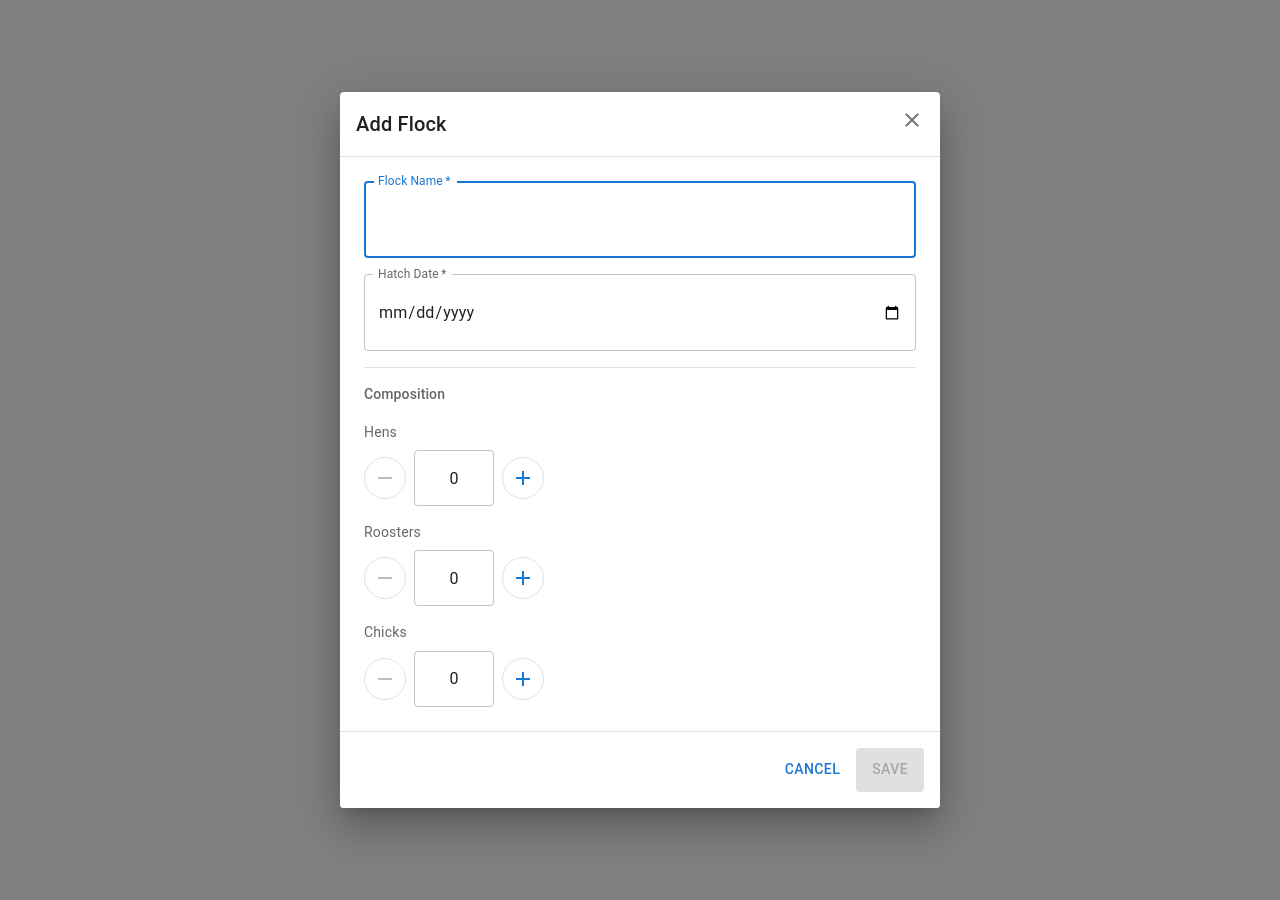
Test: CreateFlockModal › Increment/Decrement Buttons › should handle increment for roosters
Expected: the number field named "Roosters" holds "0", [414,550,494,606]
Click the button named "increase": coordinates (523, 578) [502,558,544,600]
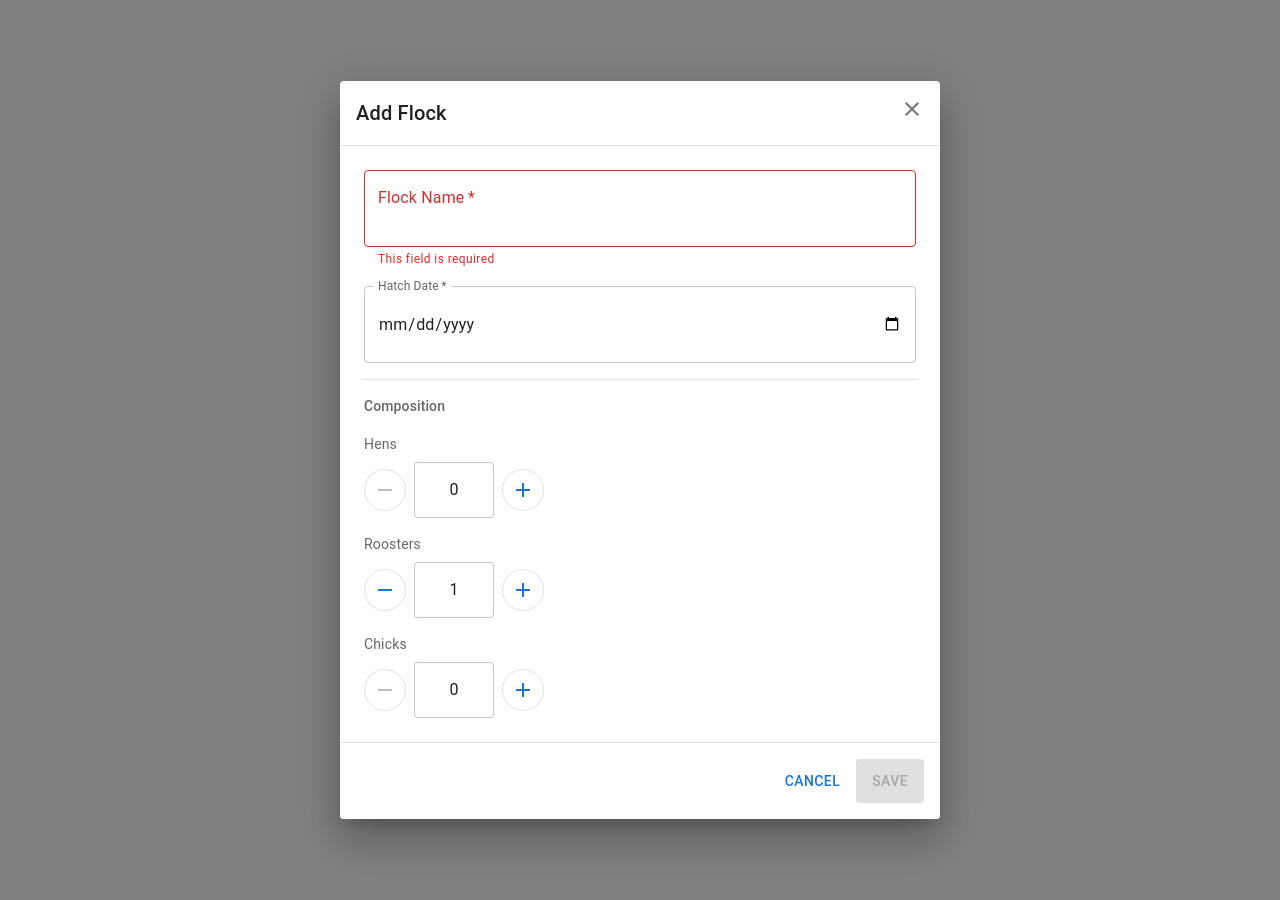
Expected: the number field named "Roosters" holds "1", [414,562,494,618]
